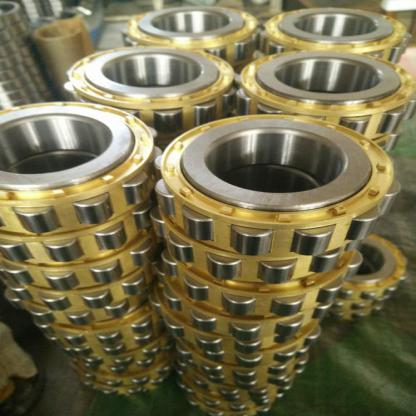FOD: (149, 108, 403, 260)
